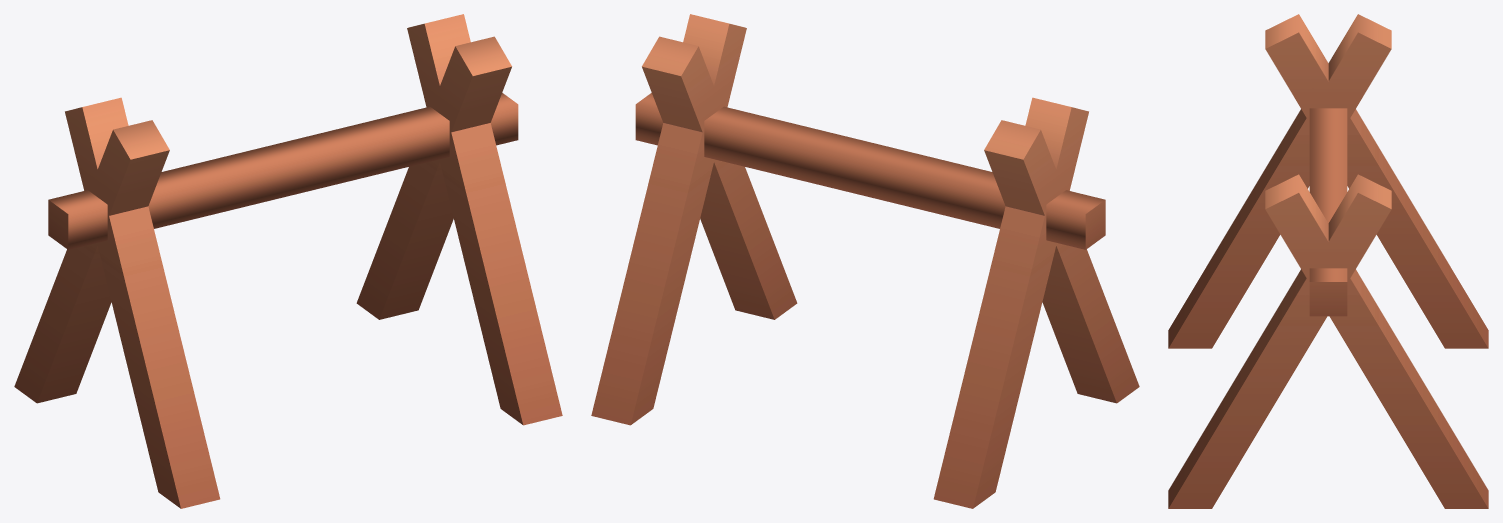
The model's file is campfire-fishing-stand.glb.
3 renders of one model, left to right at view 1: azimuth 30°, elevation 25°; view 2: azimuth 150°, elevation 25°; view 3: azimuth 270°, elevation 25°, orthographic. The views are drawn at different scales.
Visible parts, largest first — view 1: campfire-fishing-stand; view 2: campfire-fishing-stand; view 3: campfire-fishing-stand.
Part boxes in pixels (box(x1,y1,x2,y2)): campfire-fishing-stand: box(14, 14, 562, 508); campfire-fishing-stand: box(591, 14, 1139, 508); campfire-fishing-stand: box(1168, 14, 1488, 508).
Size of the model in its own units: 0.3945 by 0.276 by 0.2533.
Materials: 1 (1 with a texture image).
